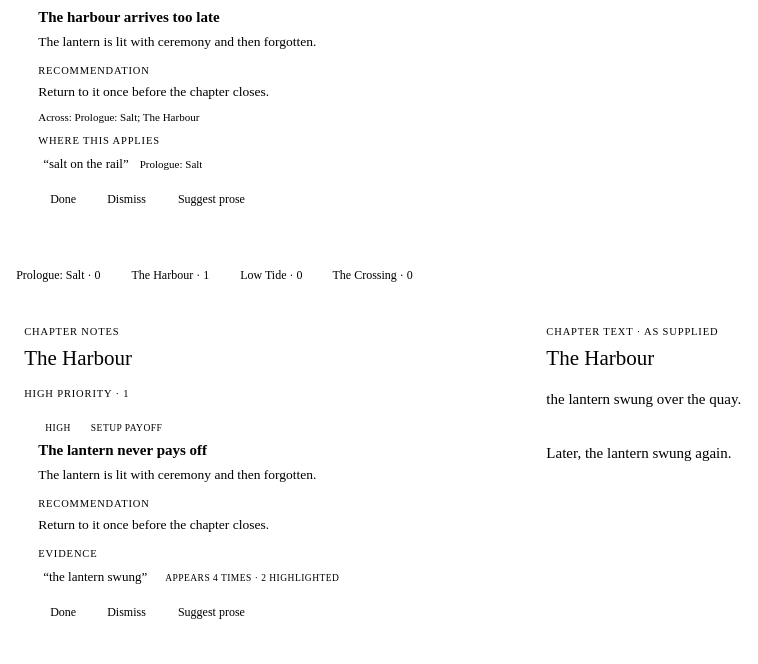
Scenario: NotesScreen · results › reports a suggestion failure on the note instead of silently doing nothing
The width and height of the screenshot is (758, 664).
(page scrolled)
Click the button "Suggest prose" below "appears 4 times · 2 highlighted" at (211,613), box [165, 598, 258, 628]
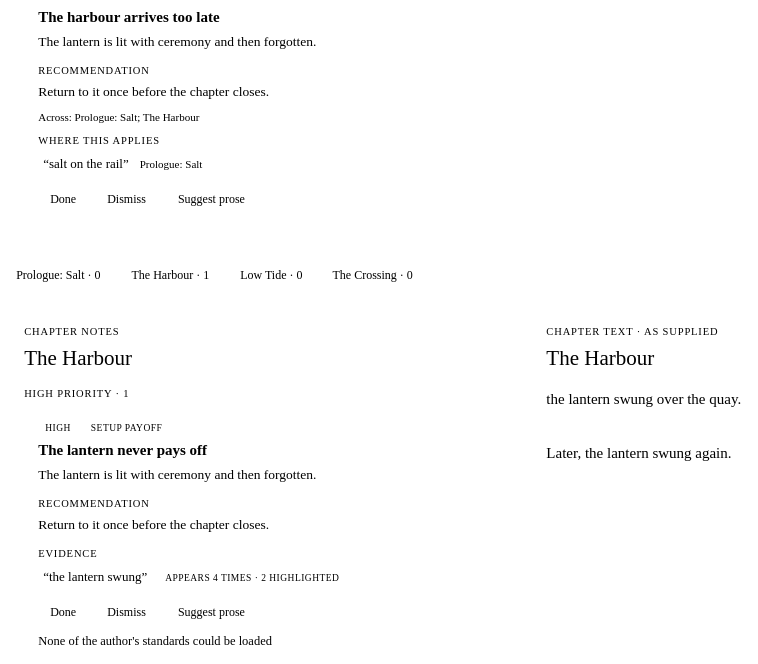
Expected: the text "None of the author's standards could be loaded" is shown, [38, 634, 272, 648]
